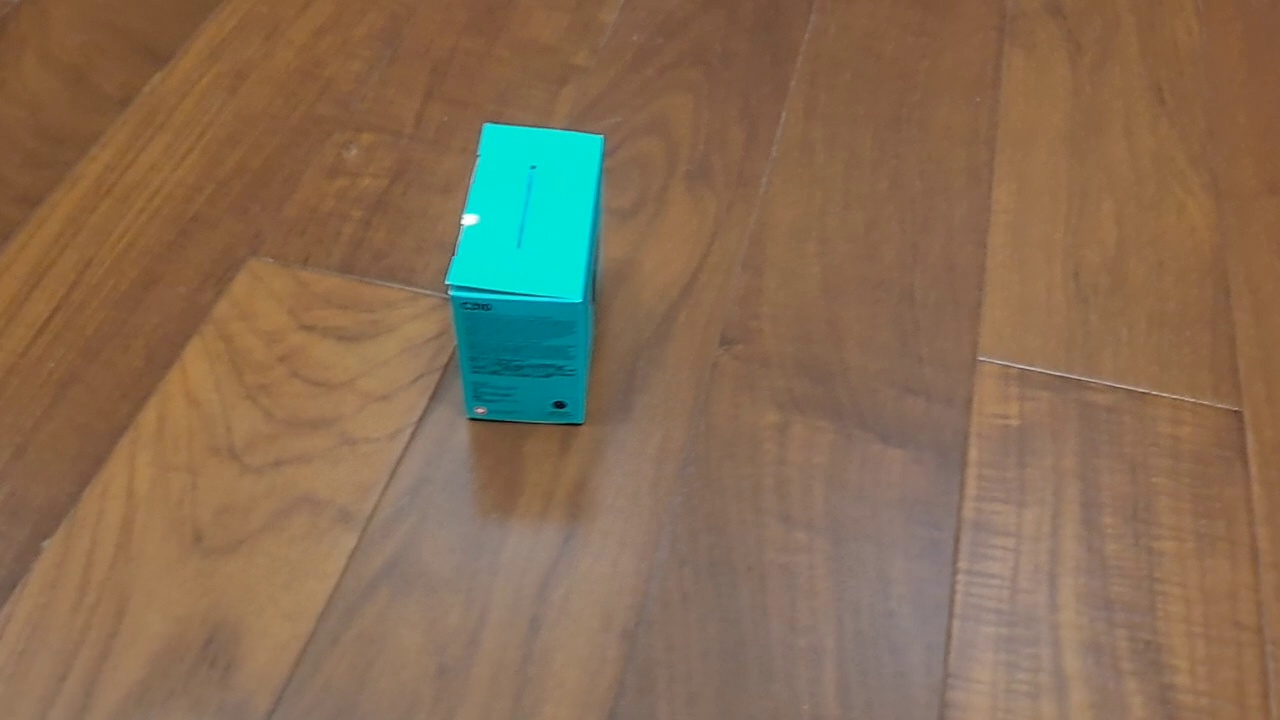webcam: (442, 120, 606, 428)
